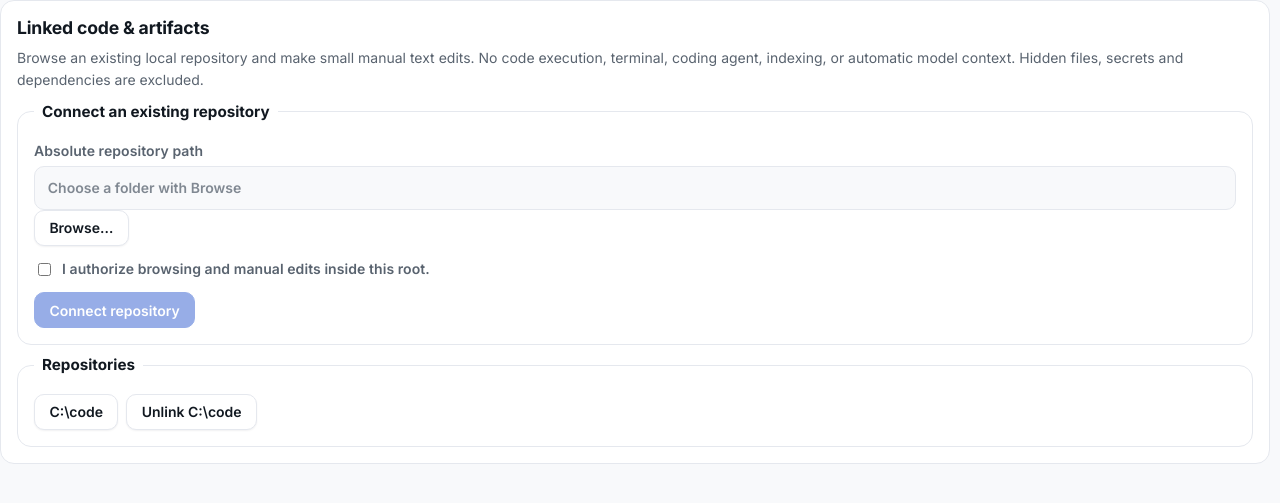
Test case: disables the form while the native picker is open
The width and height of the screenshot is (1280, 503).
Click the button "Browse…".
click(81, 228)  # box top-left (34, 210), bottom-right (129, 246)
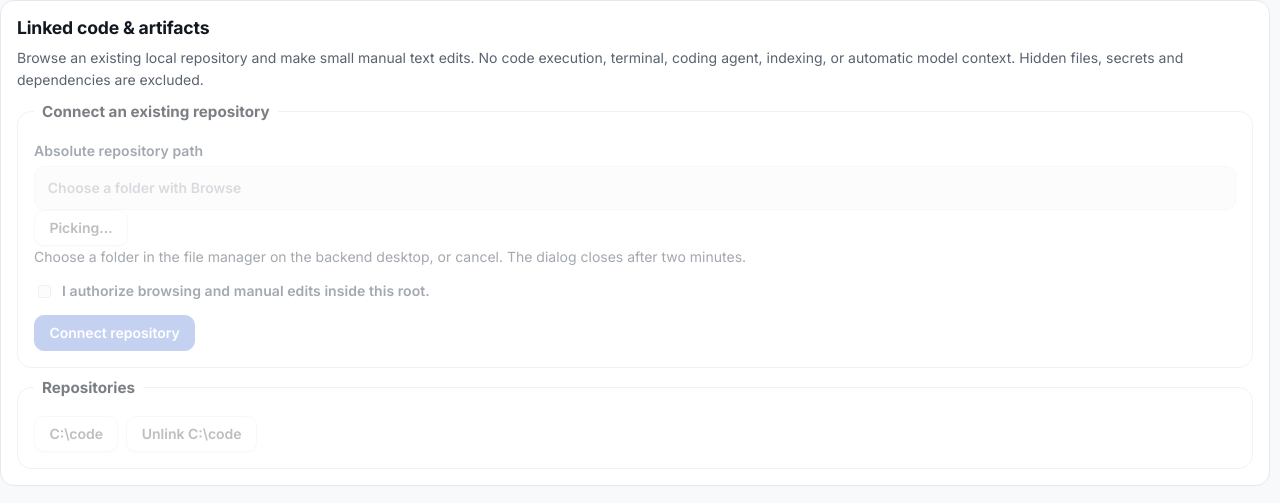
Now the element that starts with "Connect an existing repository" is disabled, box top-left (17, 100), bottom-right (1253, 368)
Now the message shows "backend desktop", box top-left (139, 248), bottom-right (746, 265)
Click the button "Picking…".
click(81, 228)  # box top-left (34, 210), bottom-right (128, 246)
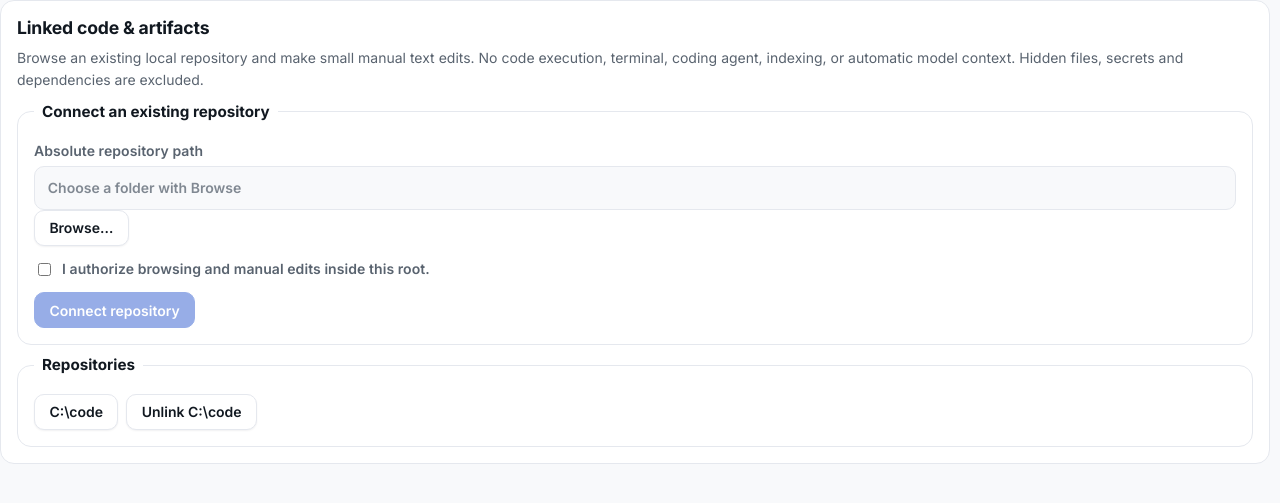
Now the element that starts with "Connect an existing repository" is enabled, box top-left (17, 100), bottom-right (1253, 346)
